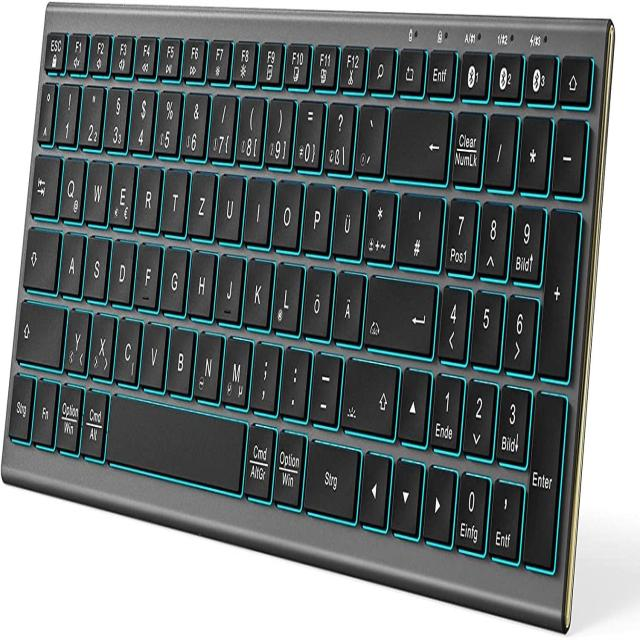0: (293, 93, 324, 169)
1: (54, 77, 79, 143)
2: (77, 79, 103, 146)
3: (102, 80, 129, 148)
4: (128, 83, 155, 151)
5: (154, 84, 181, 156)
6: (181, 86, 208, 158)
7: (208, 86, 237, 160)
8: (235, 90, 264, 164)
9: (263, 91, 293, 166)
a: (58, 225, 83, 294)
accent: (354, 97, 386, 173)
ae: (331, 263, 364, 342)
alt-left: (79, 383, 107, 458)
altgr-right: (243, 418, 275, 499)
b: (164, 320, 194, 393)
c: (112, 311, 140, 382)
caret: (36, 80, 55, 143)
comma: (249, 335, 280, 411)
d: (107, 232, 134, 304)
del: (385, 99, 450, 180)
e: (108, 155, 135, 225)
enter: (363, 269, 438, 354)
f: (133, 235, 160, 307)
g: (159, 241, 187, 312)
h: (186, 244, 215, 316)
hash: (394, 185, 443, 267)
i: (242, 169, 272, 243)
j: (214, 247, 244, 323)
k: (242, 250, 272, 326)
keyboard: (2, 1, 620, 636)
l: (272, 255, 302, 332)
m: (220, 329, 250, 407)
minus: (308, 345, 340, 423)
n: (192, 324, 222, 399)
o: (270, 173, 301, 248)
oe: (301, 261, 332, 337)
p: (300, 175, 331, 252)
plus: (362, 183, 395, 260)
point: (278, 341, 310, 416)
q: (58, 150, 84, 220)
r: (133, 158, 161, 230)
s: (82, 230, 108, 298)
shift-left: (15, 294, 64, 366)
shift-lock: (22, 222, 59, 290)
shift-right: (340, 351, 399, 436)
space: (106, 390, 247, 498)
ss: (323, 96, 354, 173)
strg-left: (7, 370, 34, 440)
strg-right: (302, 436, 361, 521)
t: (159, 161, 187, 232)
tab: (28, 149, 59, 215)
u: (213, 167, 244, 240)
ue: (331, 179, 363, 256)
v: (138, 315, 167, 387)
w: (83, 152, 109, 221)
x: (87, 307, 114, 376)
y: (62, 302, 89, 371)
z: (186, 163, 215, 236)
